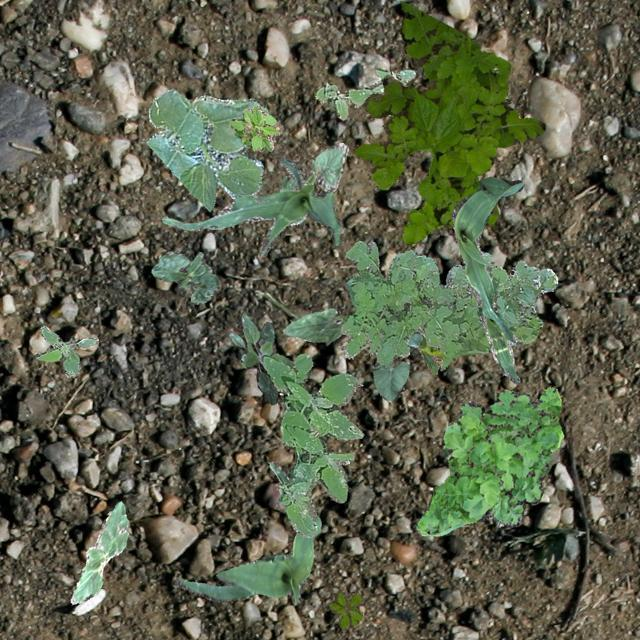crop: (176, 462, 320, 604), (160, 156, 340, 256), (450, 175, 522, 382), (146, 88, 268, 210), (70, 500, 128, 602), (278, 142, 348, 225), (282, 306, 422, 346), (150, 250, 218, 304), (416, 334, 476, 374), (372, 346, 414, 402)
weed: (352, 1, 544, 242), (340, 240, 556, 368), (416, 386, 562, 536), (260, 352, 362, 536), (228, 312, 294, 404), (314, 68, 414, 120), (34, 324, 98, 376), (228, 104, 280, 150), (328, 592, 362, 628)
